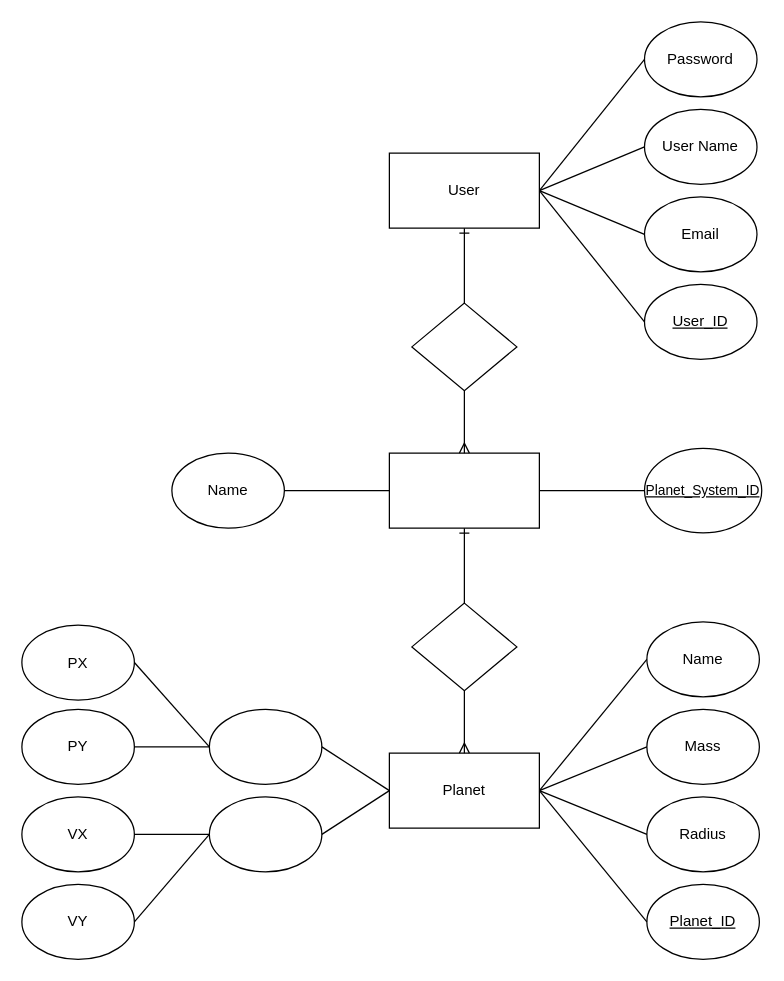
This 784x981 diagram has some shape labels left out. Here are the shapes that lost their labels. From the top down, the centre of each, then its label:
At point 464,346: "U_PS".
At point 463,490: "Planet System".
At point 464,646: "PS_P".
At point 265,746: "Coordinate".
At point 265,834: "Velocity_Vektor".
